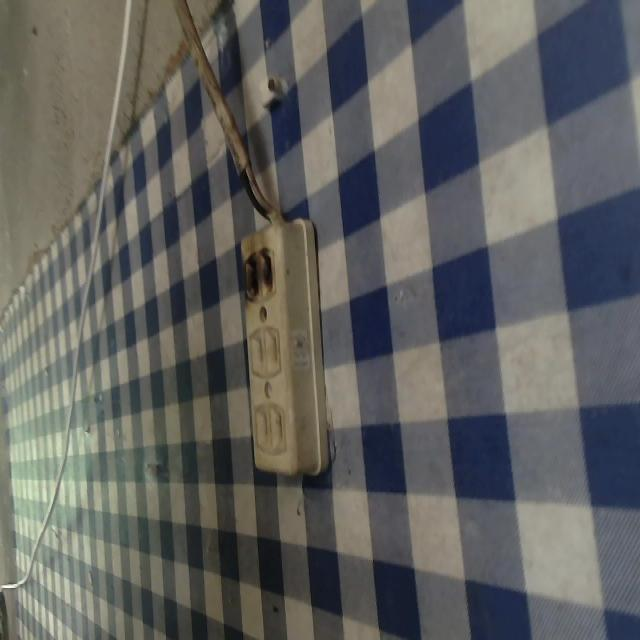-: (239, 249, 286, 304)
